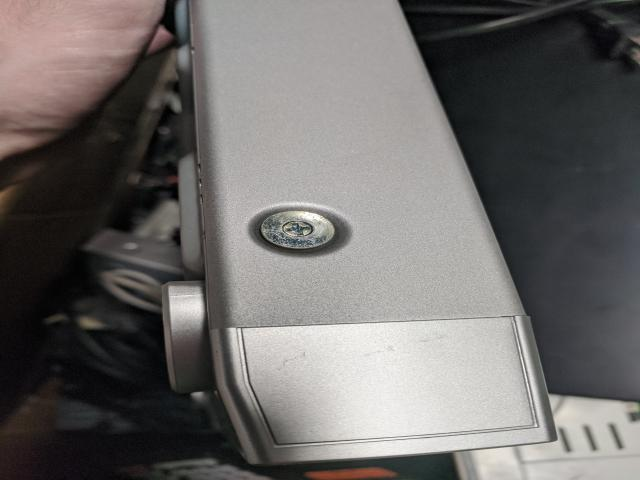CRS: (282, 219, 315, 235)
